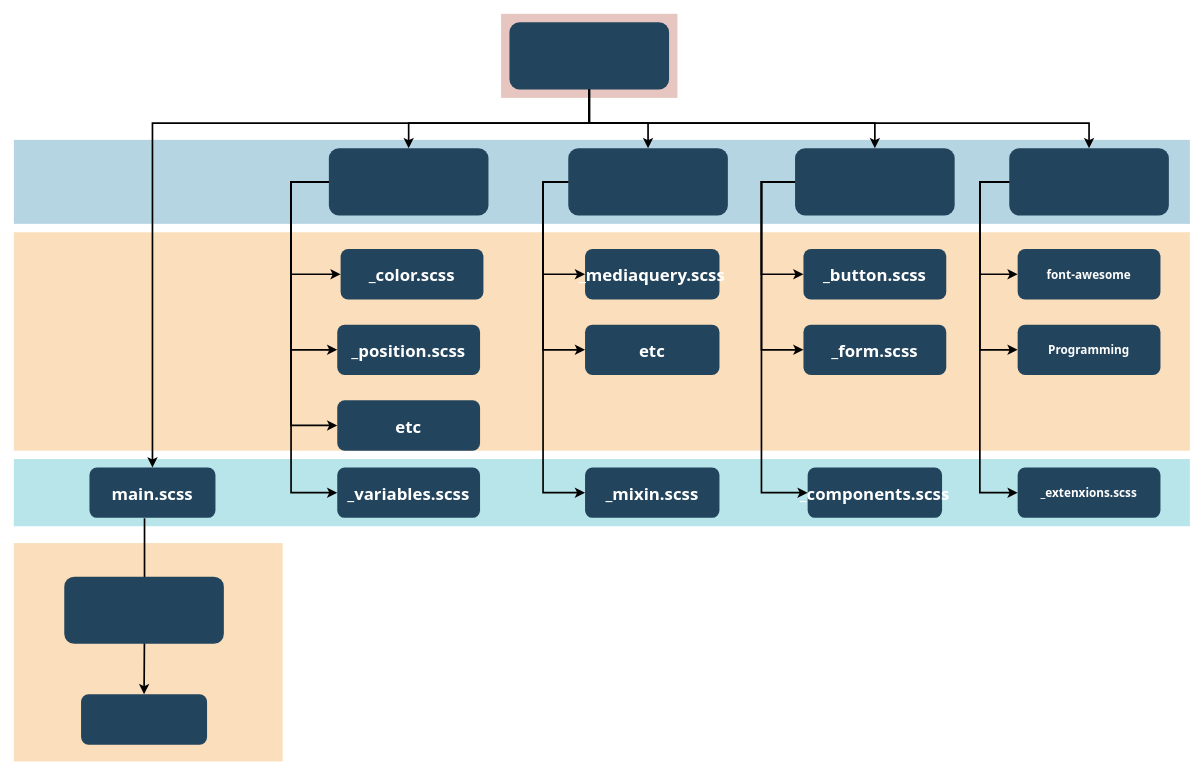
Image size: 1204x775. Some labels were removed from this diagram. Each missing label, with the centre of its shape:
components: [874,181]
CSS: [143,609]
extensions: [1088,181]
main.css: [144,719]
mixins: [647,181]
SCSS: [589,55]
variables: [408,181]
